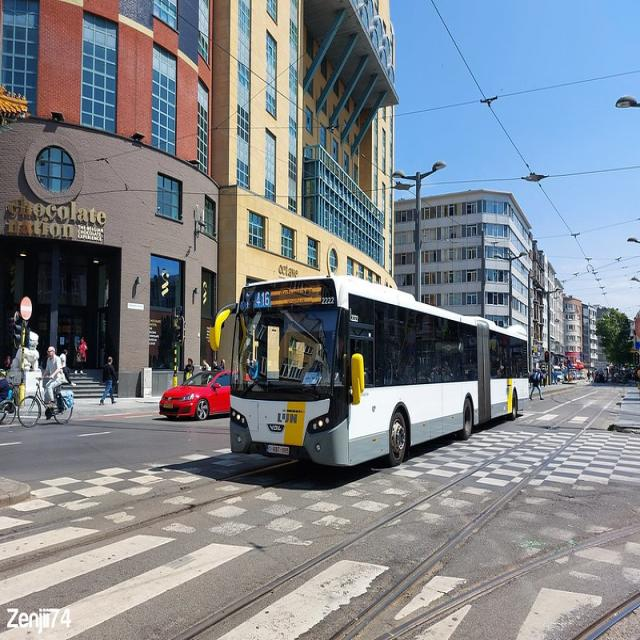bus-number: (256, 292, 270, 308)
